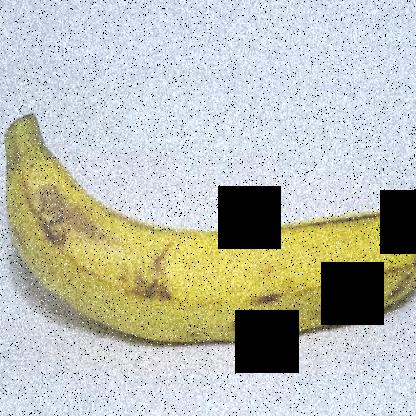ripe: (1, 99, 415, 378)
